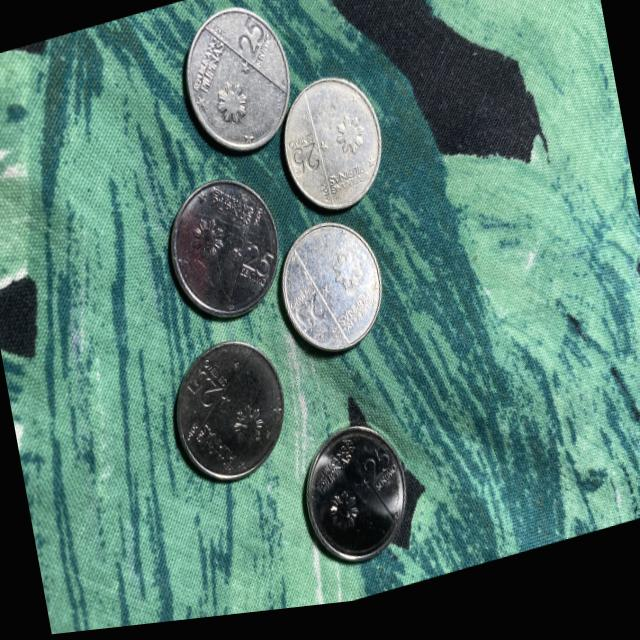25Cent_New_Front: (240, 241, 278, 288), (233, 19, 268, 69), (188, 366, 225, 412), (290, 299, 328, 343), (359, 450, 394, 497), (287, 146, 320, 186)
